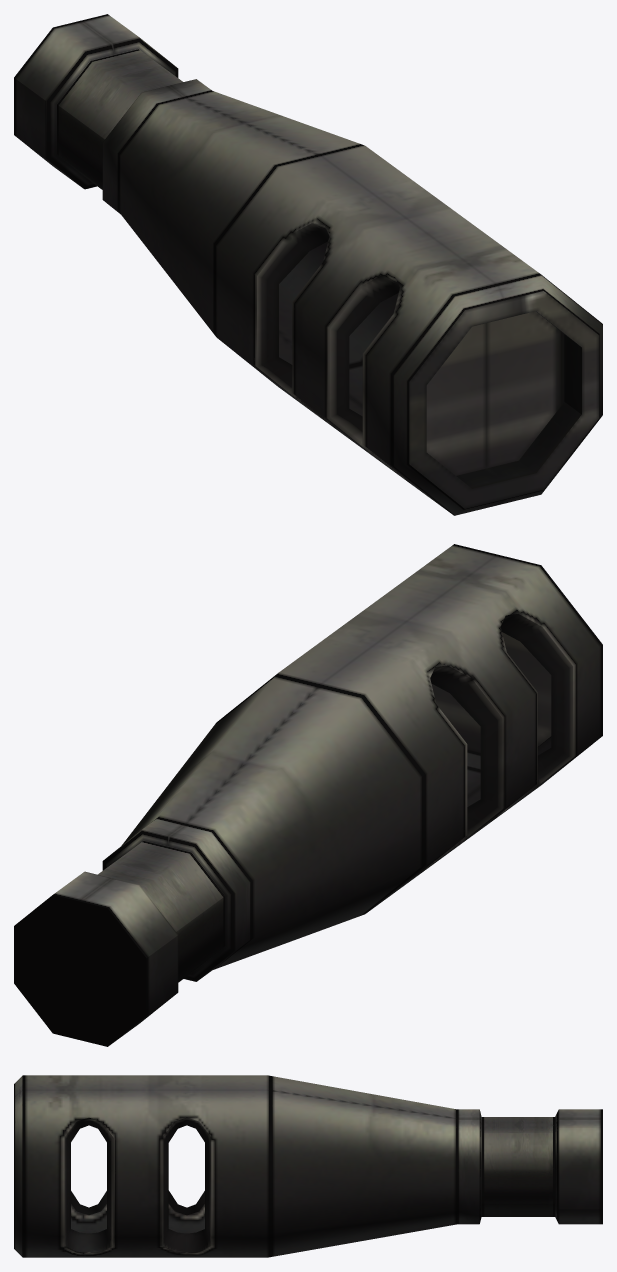
File: SniperRifle_Warfare_Muzzle_2.FBX
The picture shows the model from 3 angles, top to bottom: view 1: azimuth 30°, elevation 25°; view 2: azimuth 150°, elevation 25°; view 3: azimuth 270°, elevation 25°; orthographic projection. The views are drawn at different scales.
Visible parts, largest first — view 1: mesh_muzzle; view 2: mesh_muzzle; view 3: mesh_muzzle.
Part boxes in pixels (box(x1,y1,x2,y2)): mesh_muzzle: box(14, 14, 602, 515); mesh_muzzle: box(14, 544, 602, 1046); mesh_muzzle: box(14, 1075, 602, 1257).
Size of the model in its own units: 0.0447 by 0.0447 by 0.1562.
